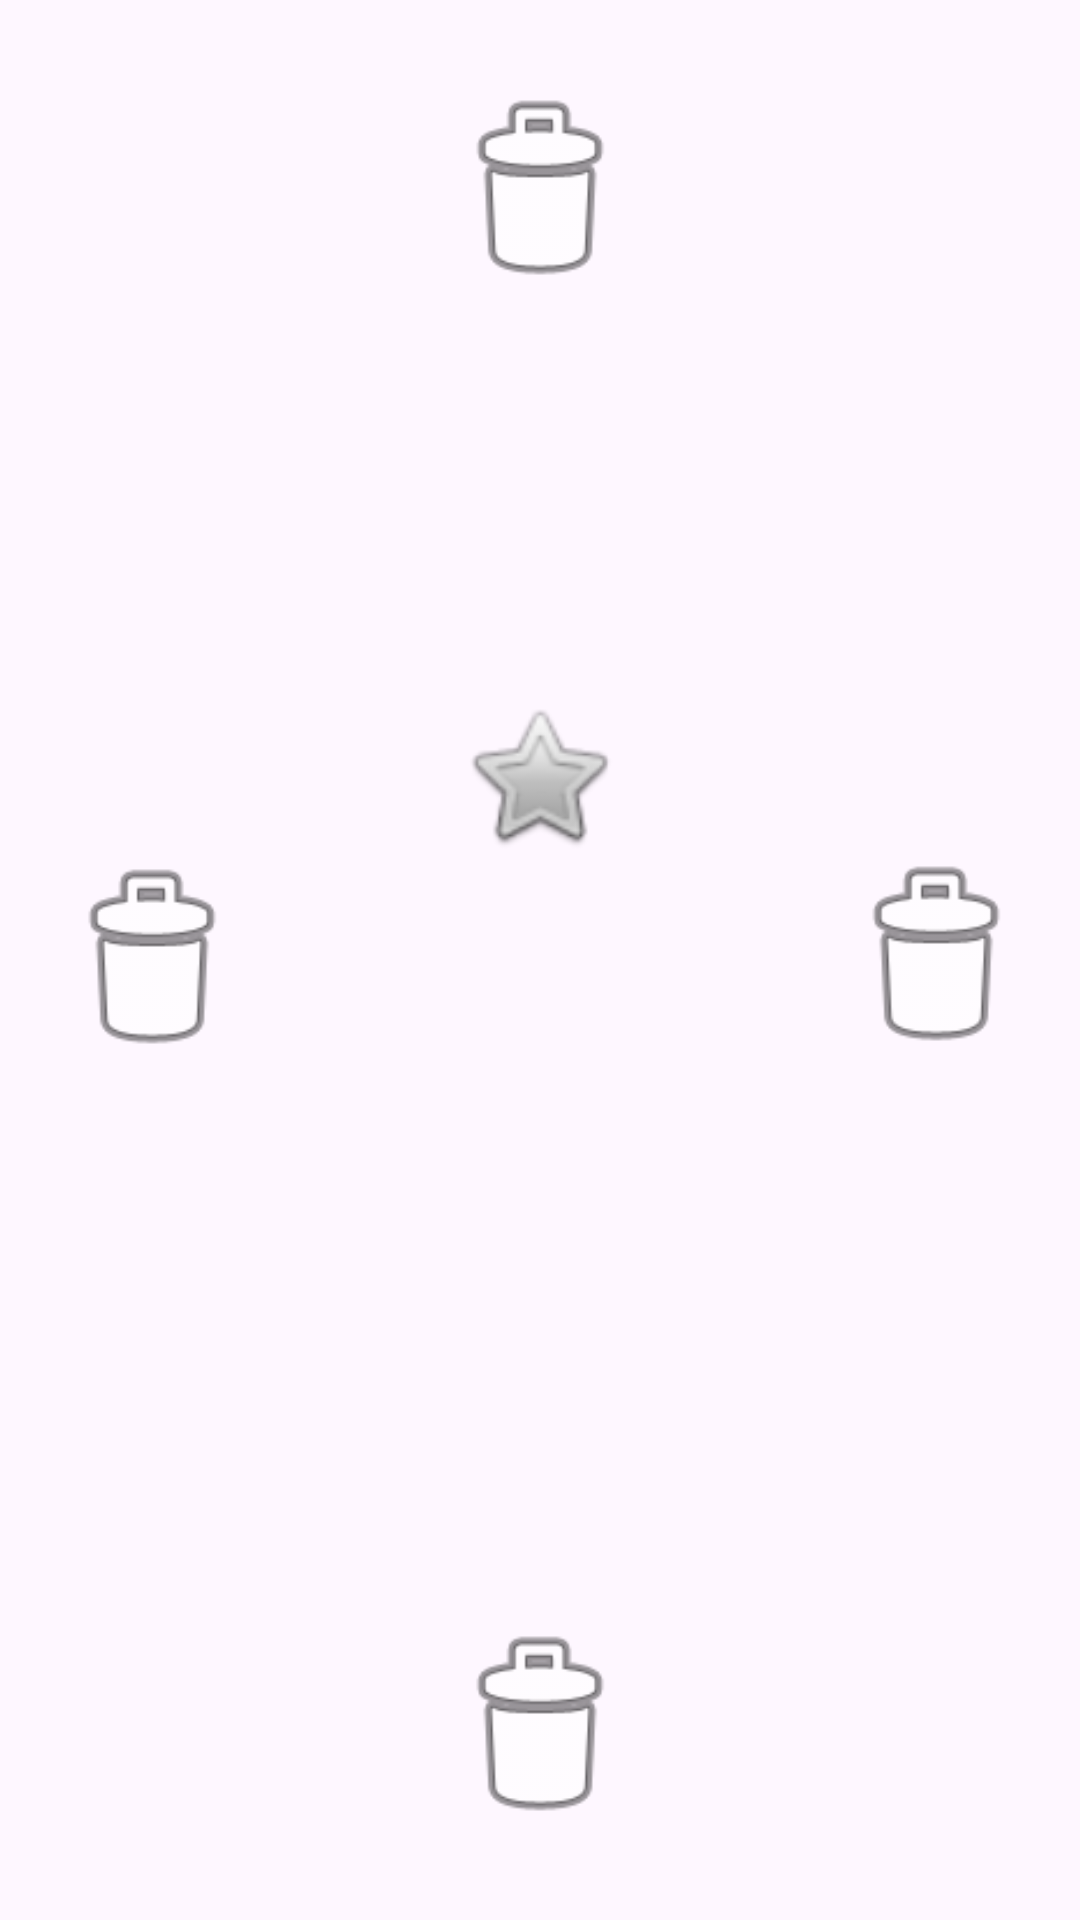

Screen size 1080*1920. Icon name, then its center in pixels as point (x, y):
delete: point (540, 188), point (936, 954), point (152, 957), point (540, 1724)
star: point (540, 777)
